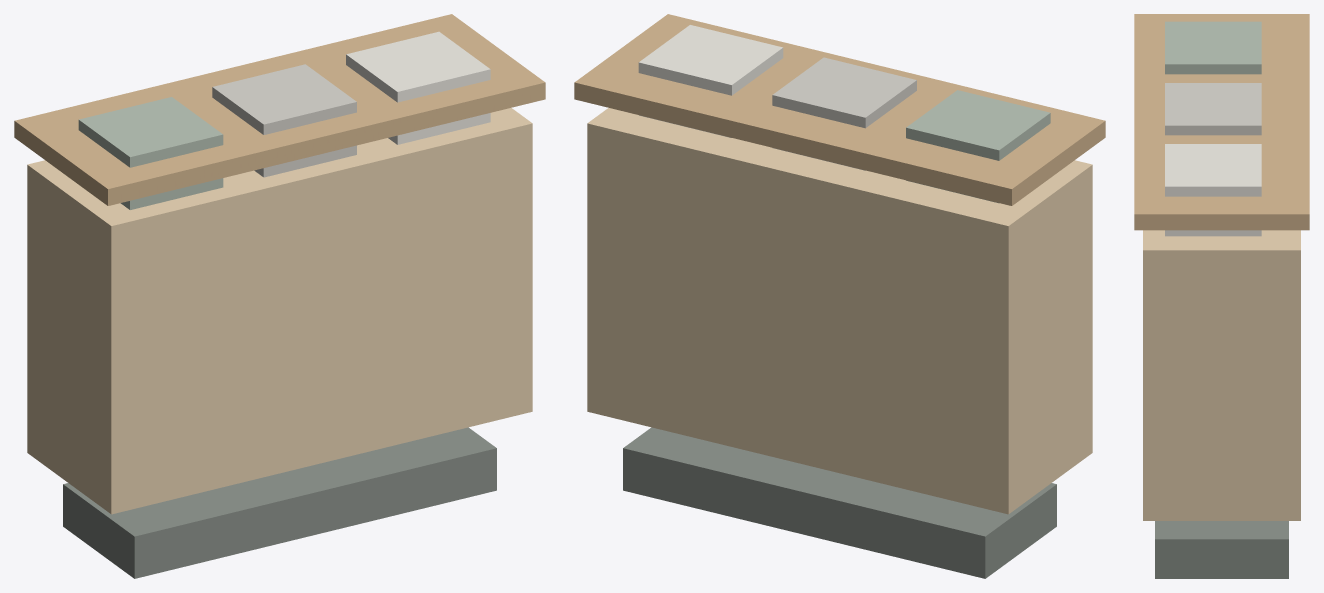
The model's file is toy_shelf.glb.
The picture shows the model from 3 angles, left to right: view 1: azimuth 30°, elevation 25°; view 2: azimuth 150°, elevation 25°; view 3: azimuth 270°, elevation 25°; orthographic projection. The views are drawn at different scales.
Parts seen in each view (by area): view 1: toy_shelf_oak_light_0, toy_shelf_oak_1, toy_shelf_dark_2, toy_shelf_sage_3, toy_shelf_ivory_5, toy_shelf_stone_4; view 2: toy_shelf_oak_light_0, toy_shelf_oak_1, toy_shelf_dark_2, toy_shelf_ivory_5, toy_shelf_sage_3, toy_shelf_stone_4; view 3: toy_shelf_oak_light_0, toy_shelf_oak_1, toy_shelf_dark_2, toy_shelf_ivory_5, toy_shelf_sage_3, toy_shelf_stone_4.
Part boxes in pixels (box(x1,y1,x2,y2)): toy_shelf_oak_light_0: box(27, 108, 532, 514); toy_shelf_oak_1: box(14, 14, 545, 205); toy_shelf_dark_2: box(63, 427, 496, 578); toy_shelf_sage_3: box(78, 97, 223, 209); toy_shelf_ivory_5: box(346, 31, 490, 144); toy_shelf_stone_4: box(212, 64, 356, 177); toy_shelf_oak_light_0: box(587, 108, 1092, 514); toy_shelf_oak_1: box(574, 14, 1105, 205); toy_shelf_dark_2: box(623, 427, 1056, 578); toy_shelf_ivory_5: box(638, 25, 783, 137); toy_shelf_sage_3: box(906, 90, 1050, 203); toy_shelf_stone_4: box(772, 57, 916, 170); toy_shelf_oak_light_0: box(1143, 230, 1300, 520); toy_shelf_oak_1: box(1134, 14, 1309, 230); toy_shelf_dark_2: box(1155, 521, 1288, 578); toy_shelf_ivory_5: box(1165, 144, 1261, 236); toy_shelf_sage_3: box(1165, 21, 1261, 74); toy_shelf_stone_4: box(1165, 83, 1261, 135).
Bounding box in the file's own units: 1.08 × 0.985 × 0.4.
